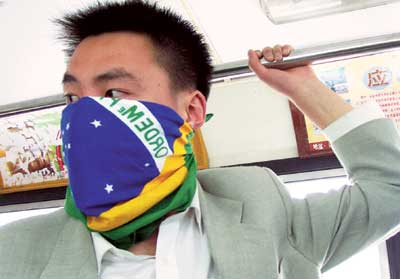face_mask: (62, 33, 162, 204)
